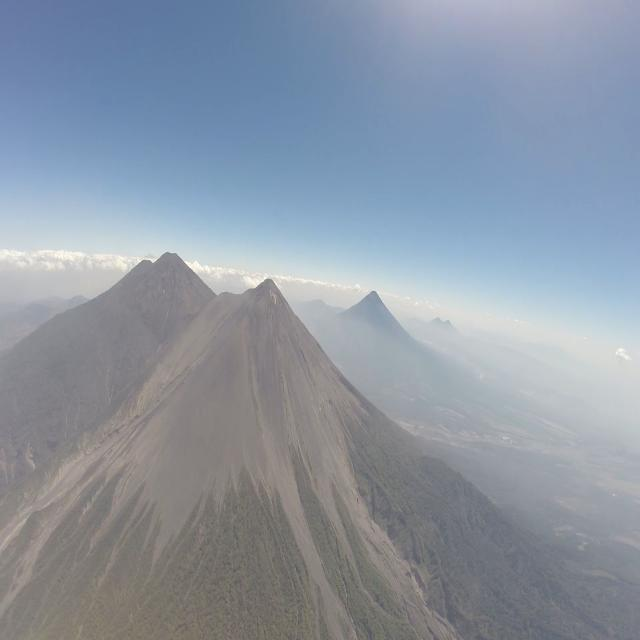Summit: (242, 274, 292, 310)
